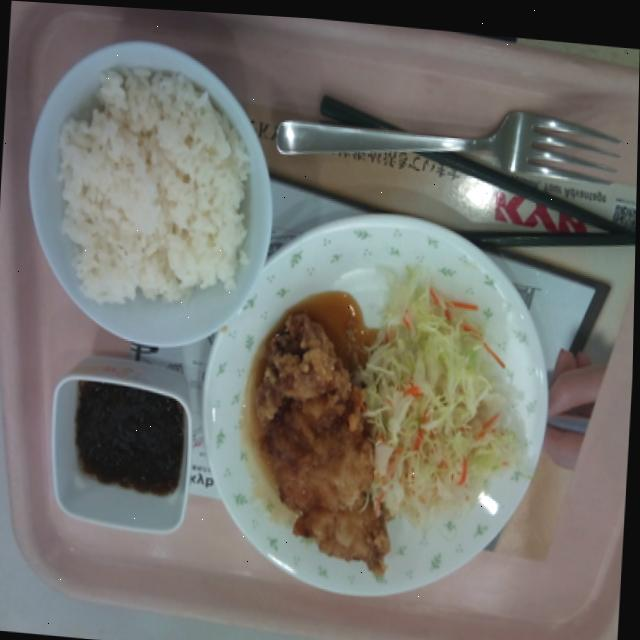米饭主食: (13, 18, 289, 374)
蔬菜料理: (350, 263, 524, 543)
